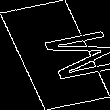M_W: (8, 26, 102, 84)
